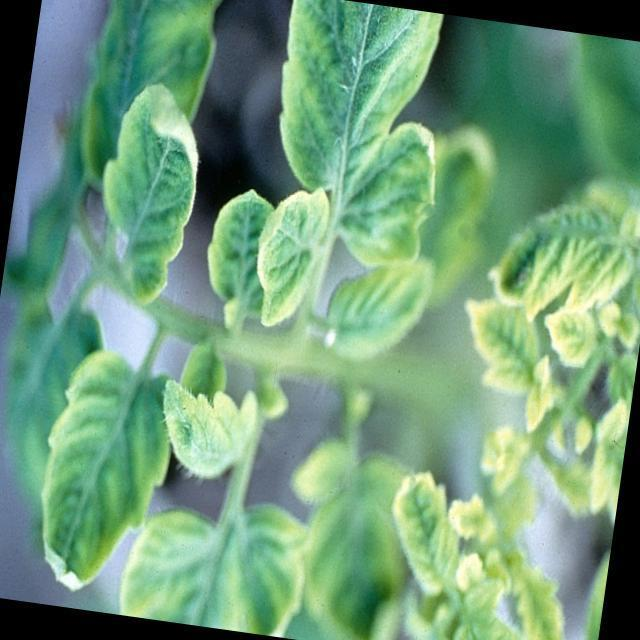Yellow Curl Virus: (258, 0, 447, 199), (29, 344, 168, 604), (84, 68, 214, 313), (334, 112, 466, 270), (195, 166, 284, 344), (370, 451, 472, 606), (248, 185, 343, 348), (147, 369, 275, 483)
